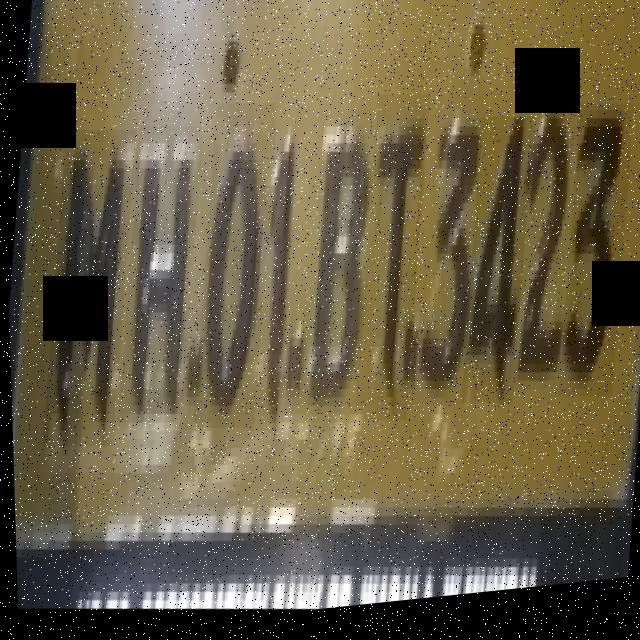0: (183, 102, 284, 438)
1: (237, 133, 318, 437)
3: (405, 98, 494, 418), (548, 112, 639, 414)
4: (451, 122, 539, 418)
B: (290, 124, 388, 437)
H: (108, 123, 209, 436)
M: (32, 126, 142, 454)
T: (344, 98, 437, 432)
